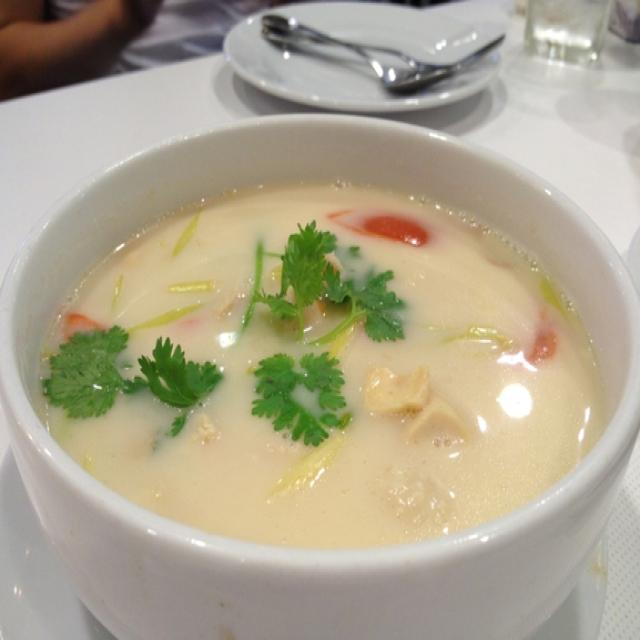汤锅炖物: (30, 120, 626, 625)
